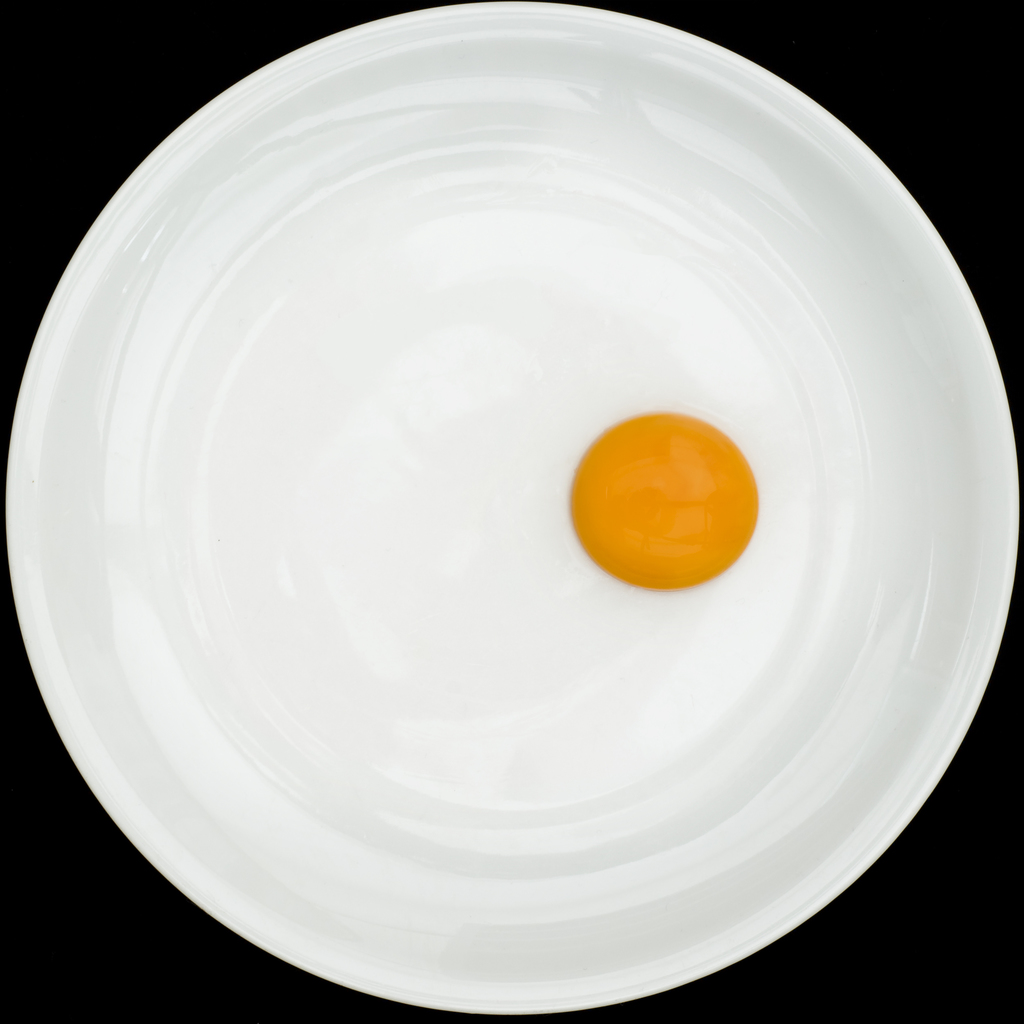plate: (4, 1, 1021, 1015)
